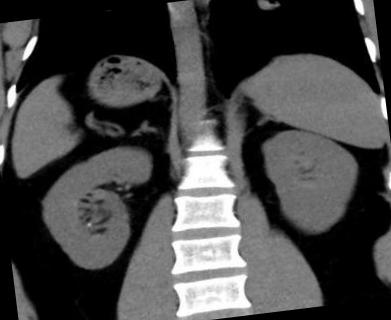Tas_Var: (84, 222, 94, 228)
